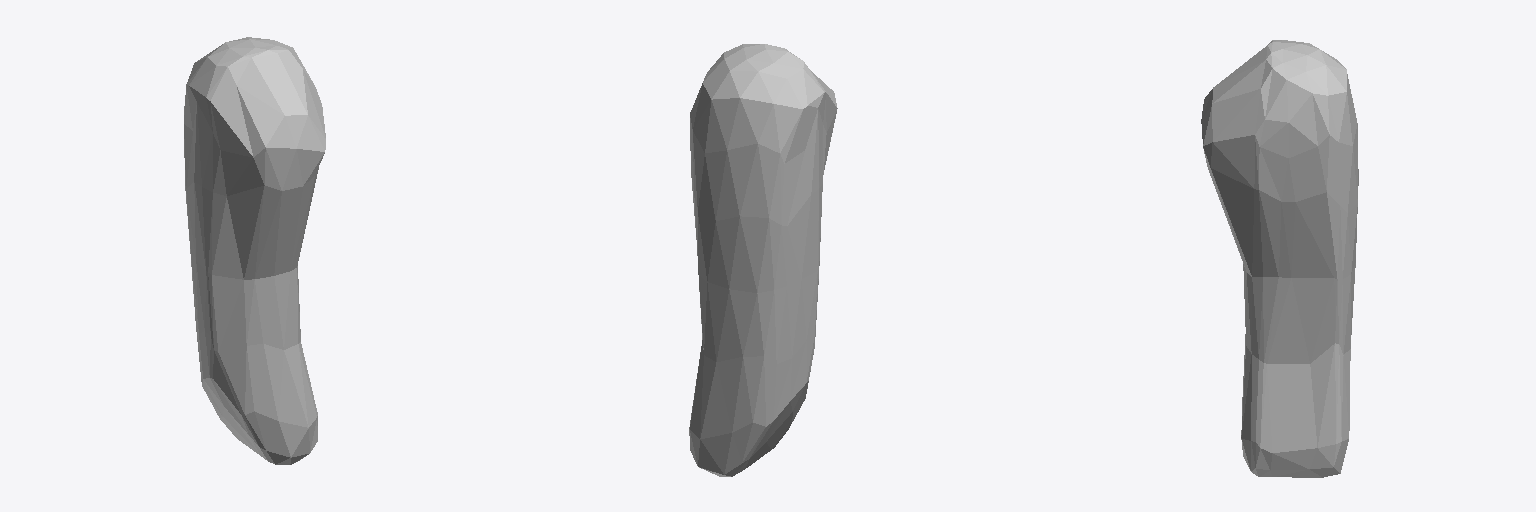
Rendered from rear_left_upper_leg_collision.obj.
3 renders of one model, left to right at view 1: azimuth 30°, elevation 25°; view 2: azimuth 150°, elevation 25°; view 3: azimuth 270°, elevation 25°, orthographic.
Parts seen in each view (by area): view 1: rear_left_upper_leg_collision_rear_left_upper_leg_collision.001; view 2: rear_left_upper_leg_collision_rear_left_upper_leg_collision.001; view 3: rear_left_upper_leg_collision_rear_left_upper_leg_collision.001.
Boxes of the visible parts, x1,y1,x2,y2 form: rear_left_upper_leg_collision_rear_left_upper_leg_collision.001: [184, 37, 325, 464]; rear_left_upper_leg_collision_rear_left_upper_leg_collision.001: [689, 44, 837, 476]; rear_left_upper_leg_collision_rear_left_upper_leg_collision.001: [1201, 40, 1358, 477].
Size of the model in its own units: 0.1209 by 0.4377 by 0.1507.